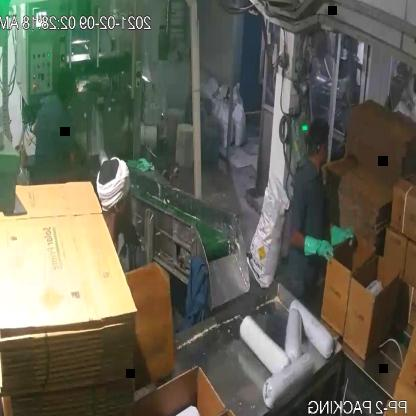glove: (296, 233, 338, 266), (327, 216, 359, 257)
